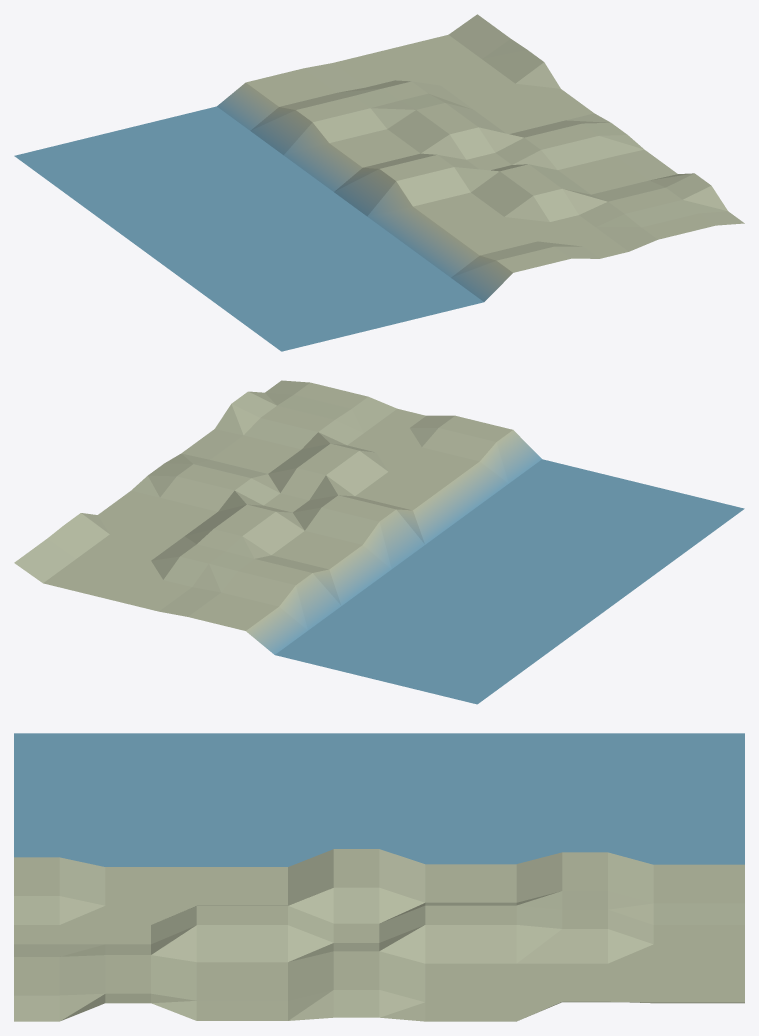
3 views of the same model, one above another, from view 1: azimuth 30°, elevation 25°; view 2: azimuth 150°, elevation 25°; view 3: azimuth 270°, elevation 25° (orthographic). The views are drawn at different scales.
Bounding box in the file's own units: 32 × 1.96 × 32.
